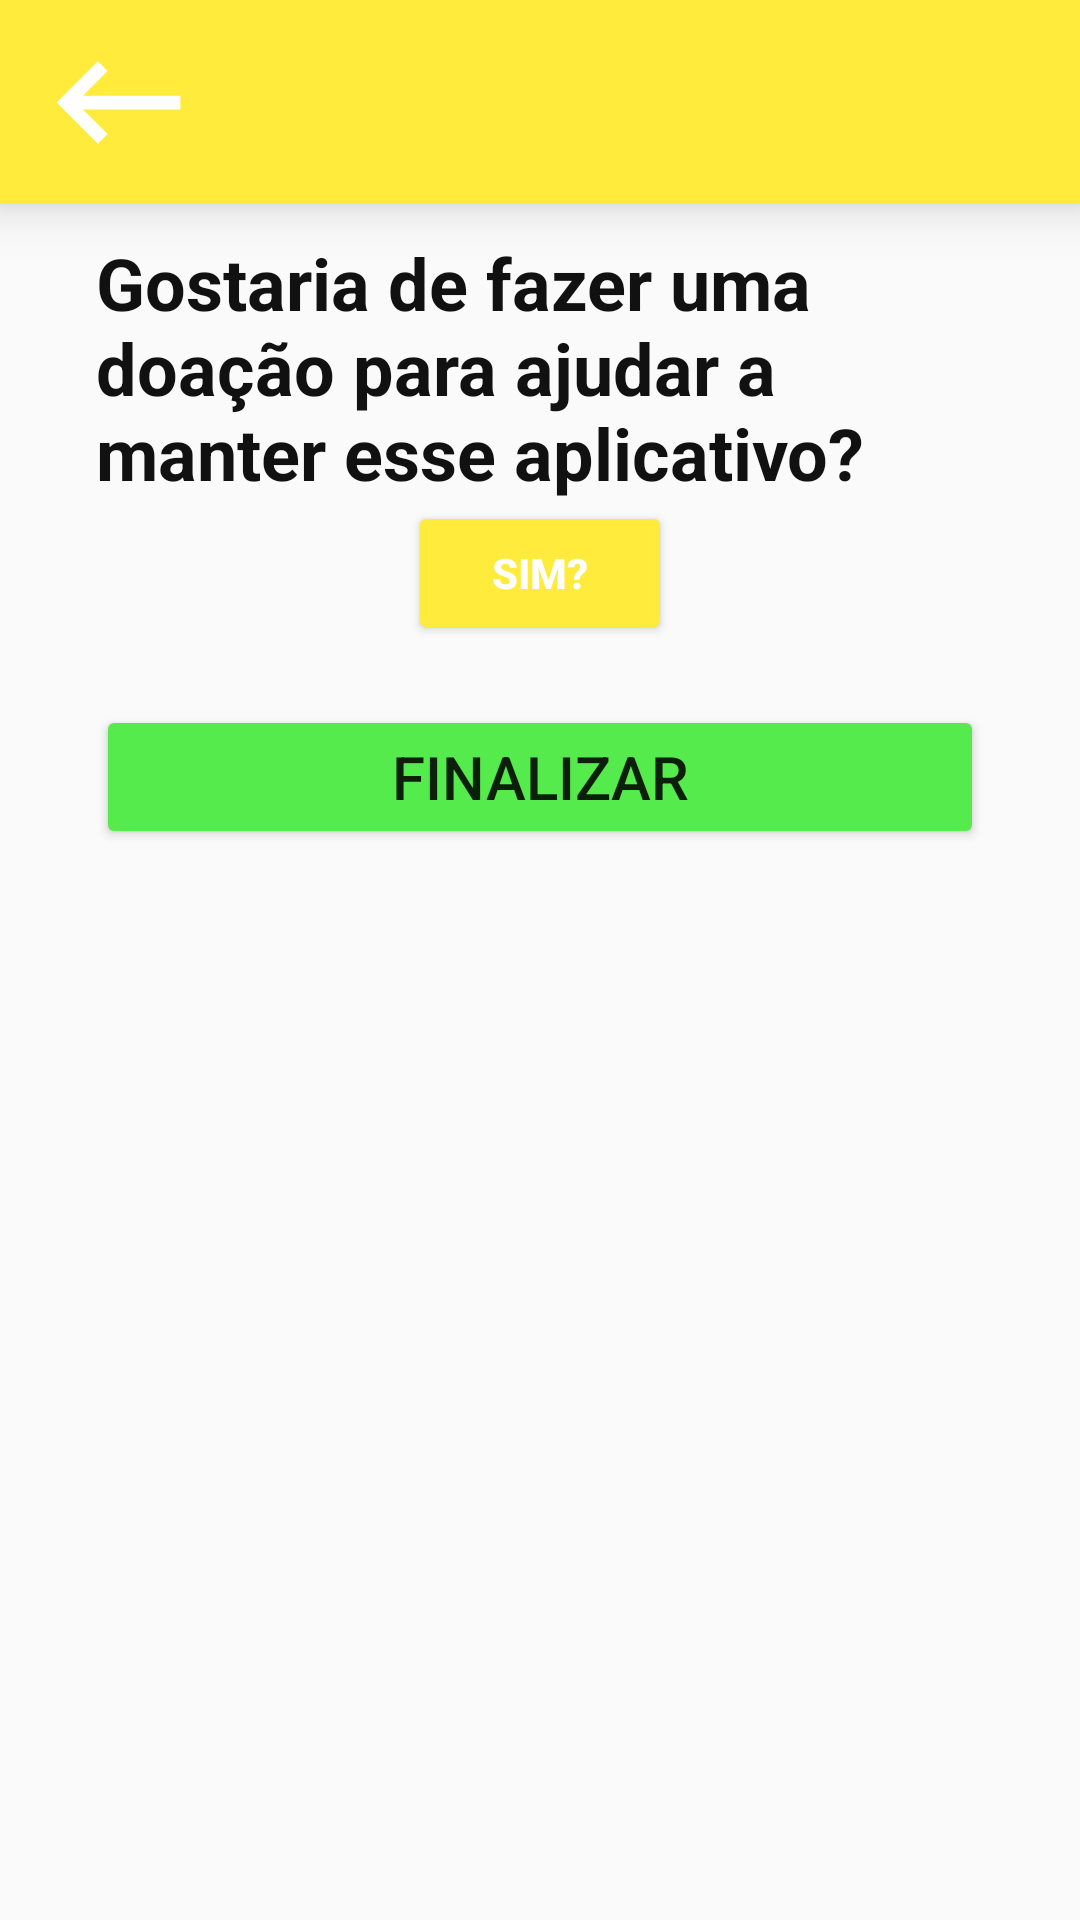

Point at icon controls on the screen. Image size 1080*1920, points as point (x, y).
voltar: point (118, 102)
